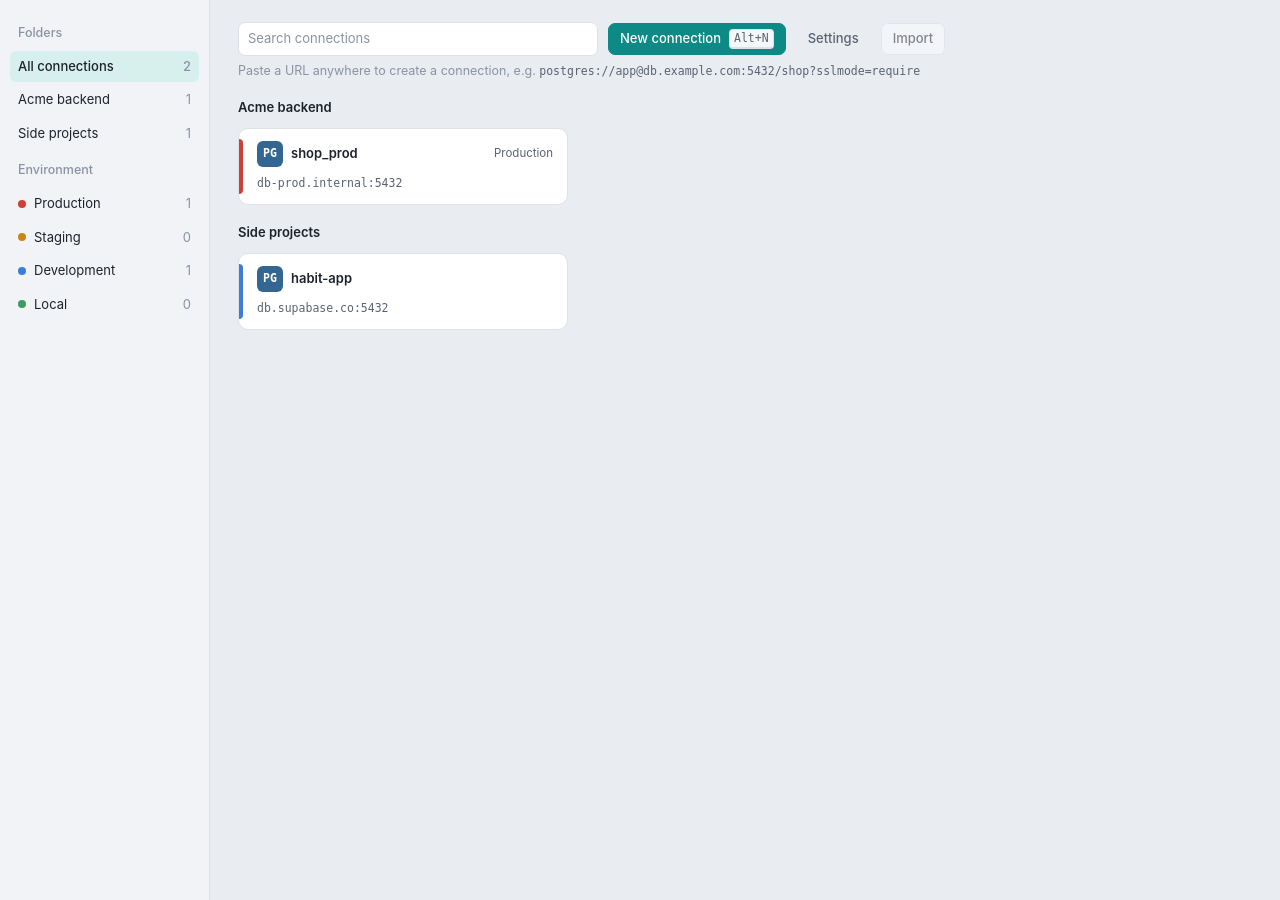
Test case: ConnectionsScreen › filters cards when searching
The width and height of the screenshot is (1280, 900).
Expected: the text "shop_prod" is shown, top-left (291, 144), bottom-right (358, 164)
Expected: the text "habit-app" is shown, top-left (291, 269), bottom-right (352, 288)
In the field labelled "Search connections": (418, 39) top-left (238, 22), bottom-right (598, 56), type "habit"
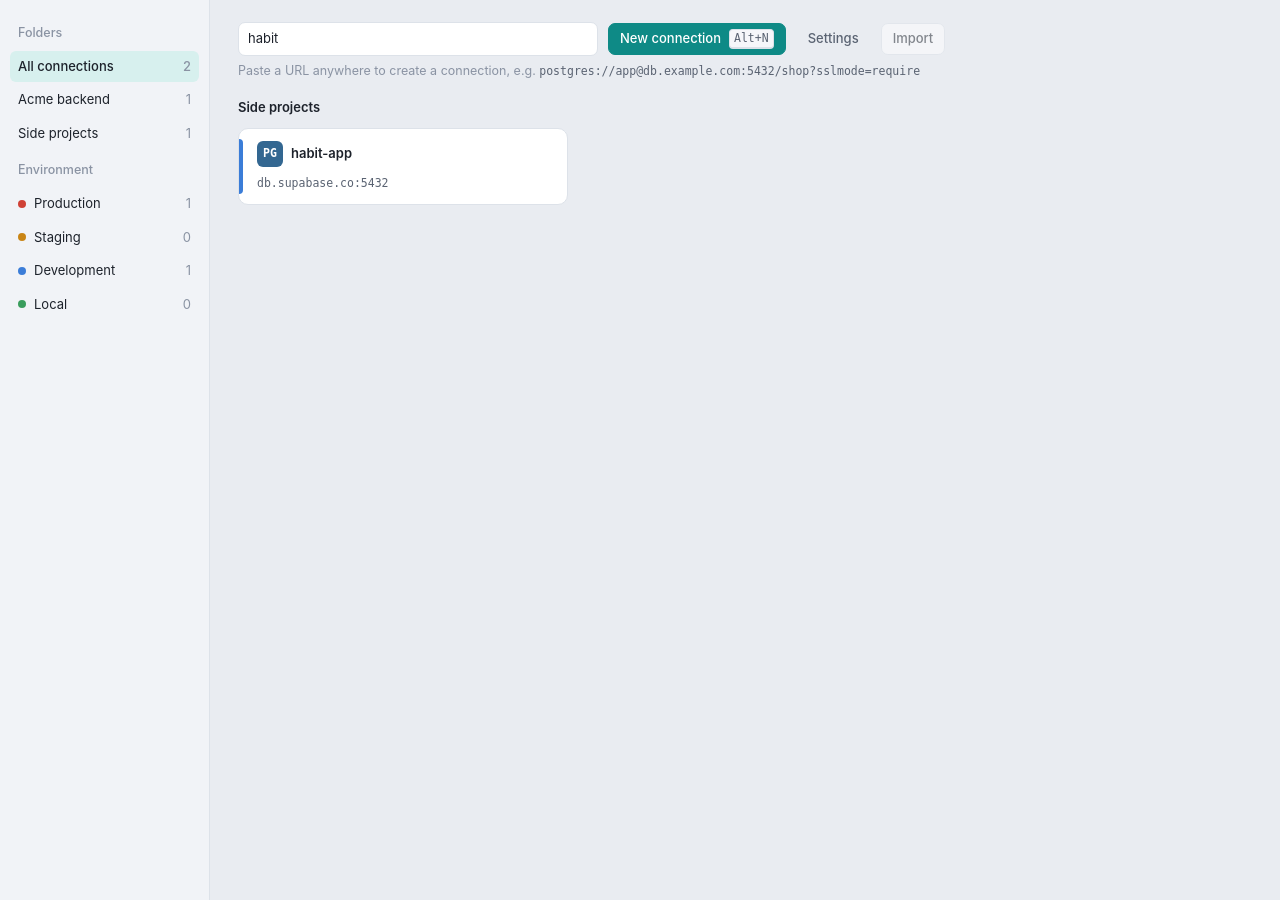
Expected: the text "habit-app" is shown, top-left (291, 144), bottom-right (352, 164)
Expected: the button "shop_prod" is gone
